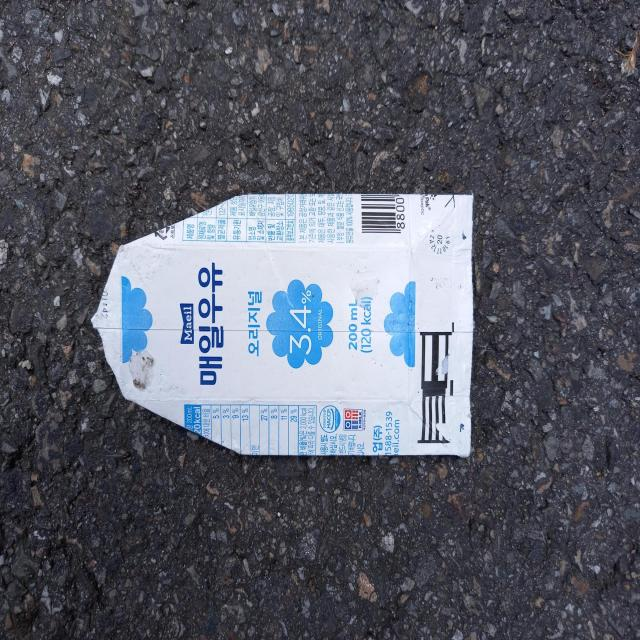paperpack: (92, 193, 474, 457)
